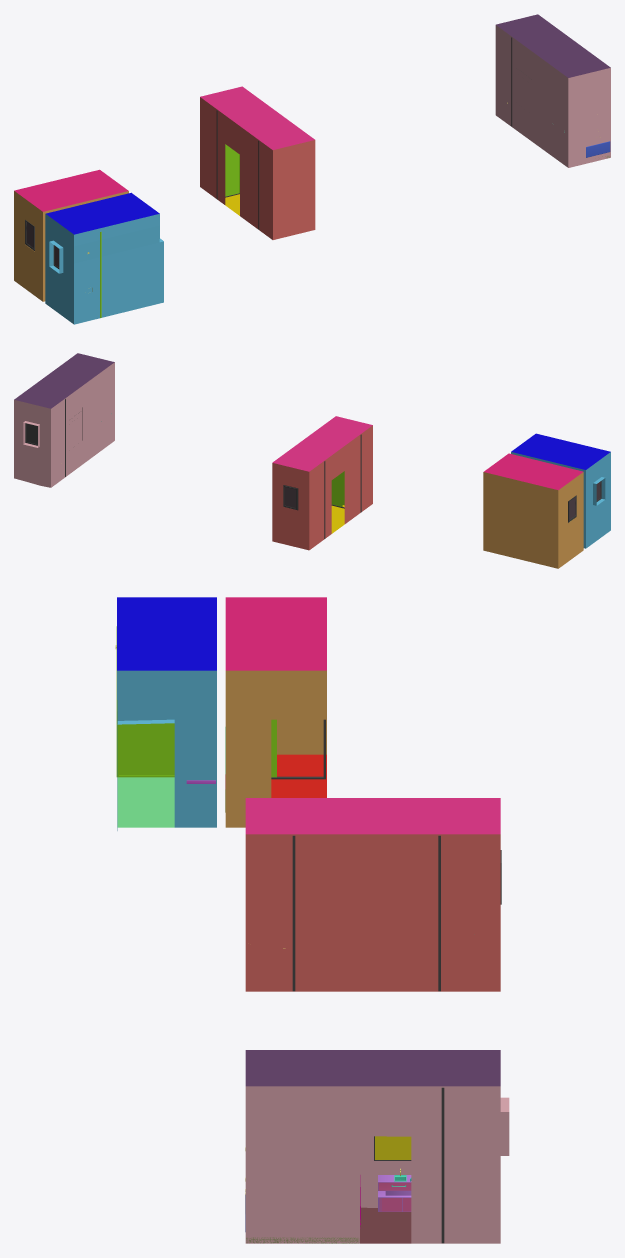
Rendered from Bathrooms.fbx.
3 renders of one model, top to bottom at view 1: azimuth 30°, elevation 25°; view 2: azimuth 150°, elevation 25°; view 3: azimuth 270°, elevation 25°, orthographic. The views are drawn at different scales.
Parts seen in each view (by area): view 1: B1_Walls, B2_Walls, B4_Walls, B3_walls, B2_Glass; view 2: B1_Walls, B3_walls, B2_Walls, B4_Walls, B2_Glass, B2_Window, B2_Frame; view 3: B2_Walls, B1_Walls, B3_walls, B4_Walls, B4_GLass, B1_Cabinet, B2_Frame, B1_Mirror.
Boxes of the visible parts, bbox=[...] form: B1_Walls: bbox=[495, 14, 610, 167]; B2_Walls: bbox=[200, 86, 315, 239]; B4_Walls: bbox=[45, 192, 163, 324]; B3_walls: bbox=[14, 169, 128, 301]; B2_Glass: bbox=[225, 144, 239, 196]; B1_Walls: bbox=[14, 353, 114, 487]; B3_walls: bbox=[483, 453, 583, 568]; B2_Walls: bbox=[272, 416, 372, 550]; B4_Walls: bbox=[511, 433, 610, 548]; B2_Glass: bbox=[331, 471, 344, 506]; B2_Window: bbox=[283, 485, 298, 510]; B2_Frame: bbox=[324, 434, 361, 538]; B2_Walls: bbox=[245, 798, 500, 991]; B1_Walls: bbox=[245, 1050, 509, 1243]; B3_walls: bbox=[225, 597, 326, 827]; B4_Walls: bbox=[117, 597, 216, 830]; B4_GLass: bbox=[116, 626, 174, 777]; B1_Cabinet: bbox=[378, 1175, 411, 1211]; B2_Frame: bbox=[292, 835, 440, 991]; B1_Mirror: bbox=[375, 1136, 411, 1159].
Size of the model in its own units: 2040 by 309 by 688.
